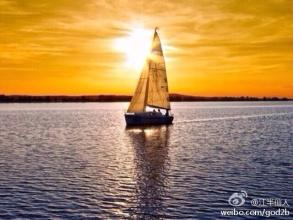fanchuan: (126, 29, 185, 131)
